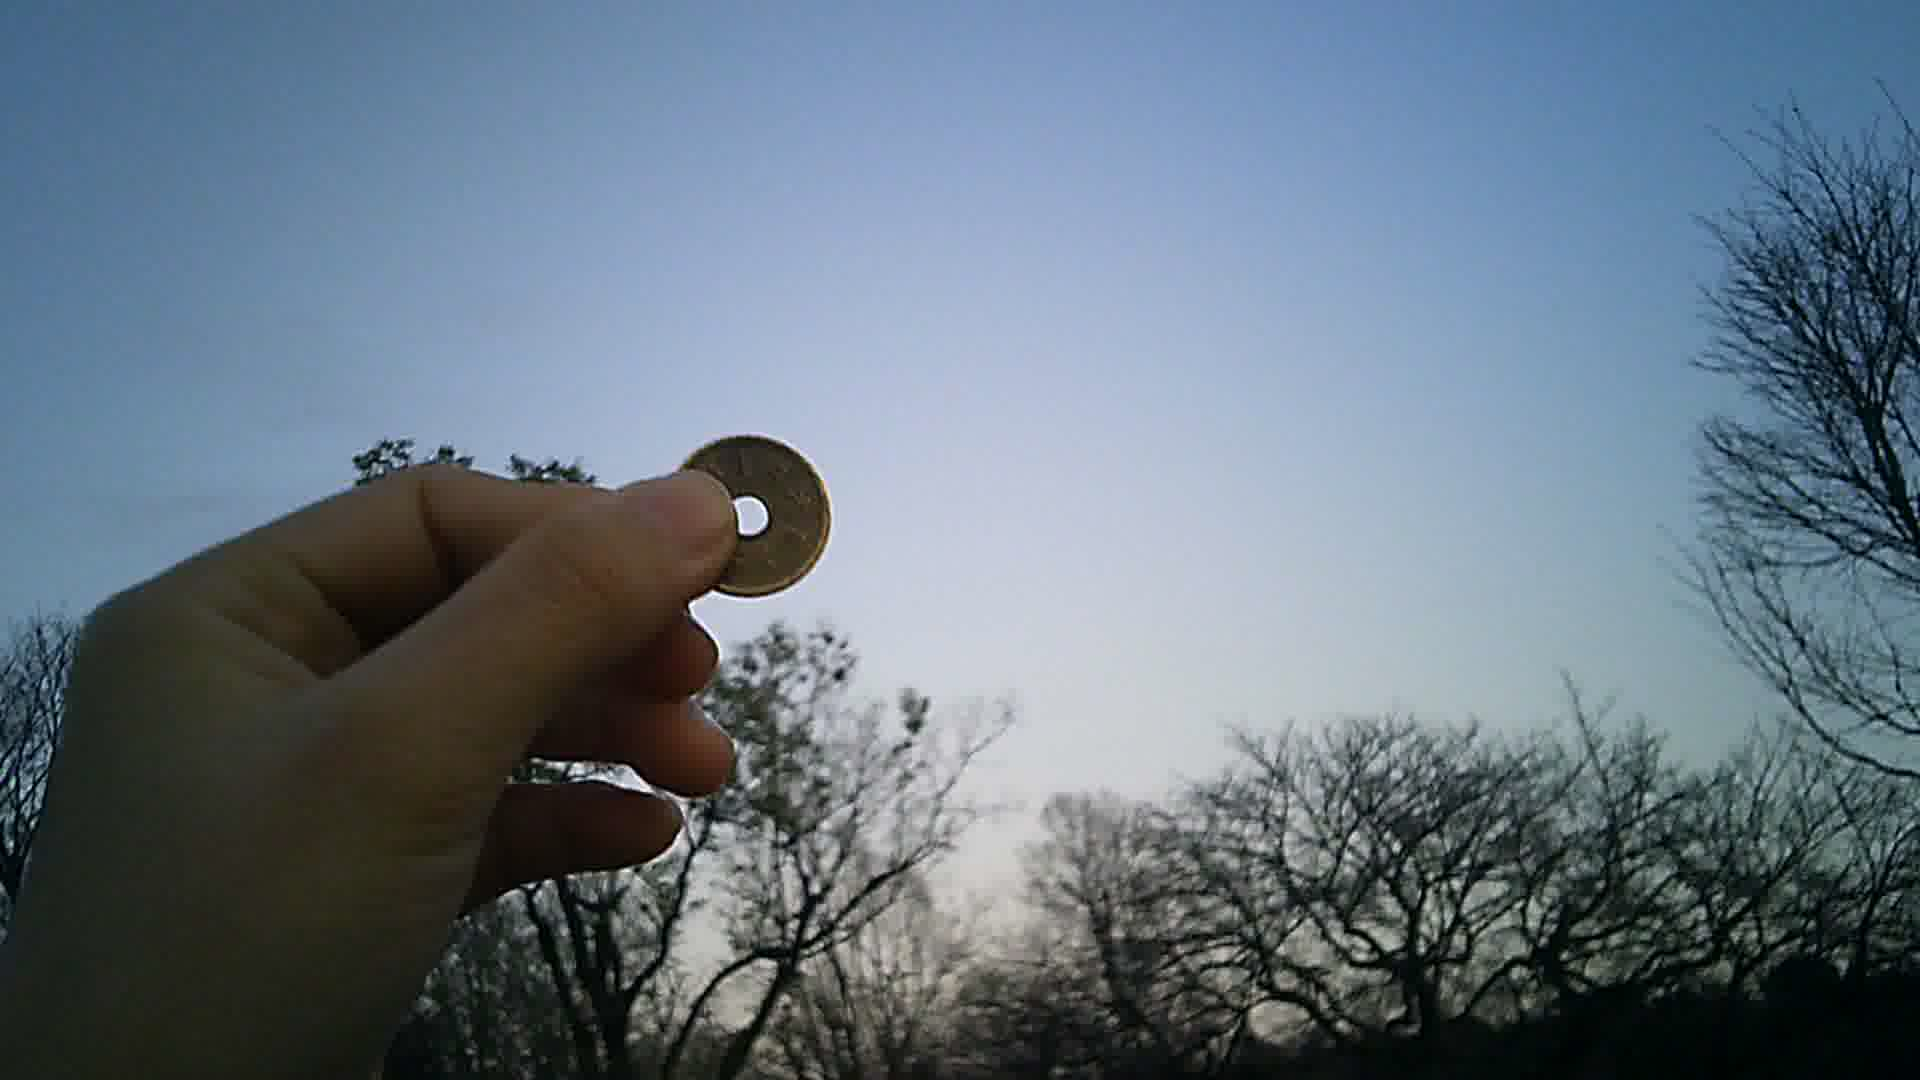5 Yen: (665, 429, 843, 604)
